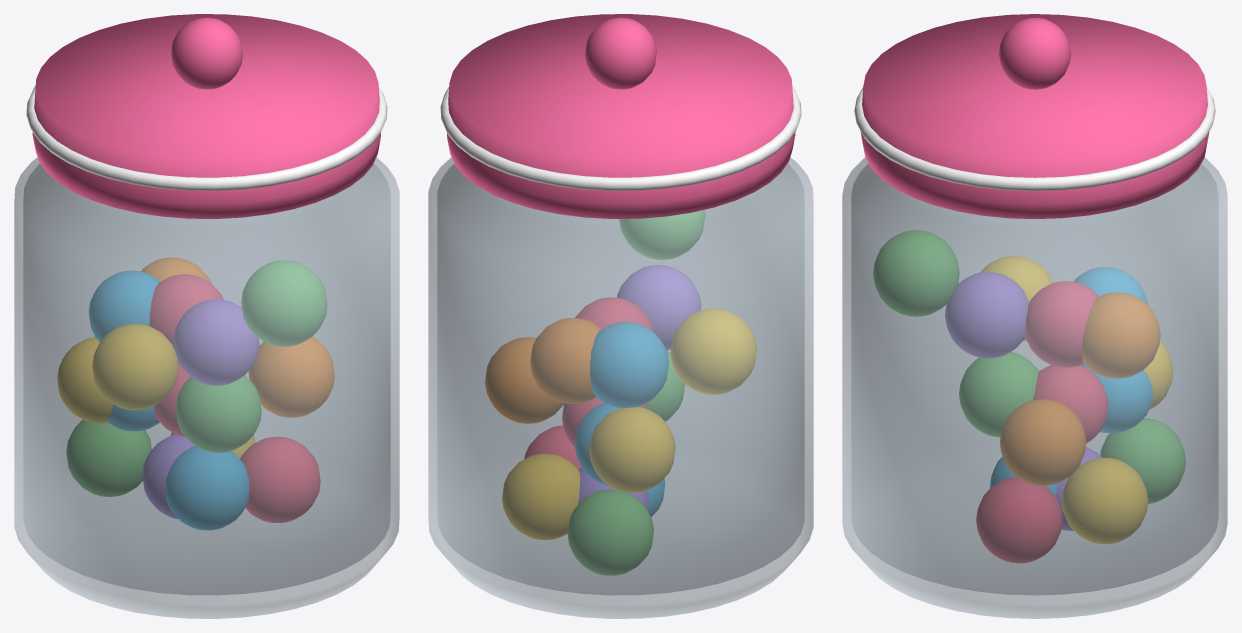
Rendered from d-jar.glb.
3 views of the same model, side by side, from view 1: azimuth 30°, elevation 25°; view 2: azimuth 150°, elevation 25°; view 3: azimuth 270°, elevation 25° (orthographic).
Parts seen in each view (by area): view 1: d-jar; view 2: d-jar; view 3: d-jar.
Part boxes in pixels (bbox=[...]): d-jar: bbox=[14, 14, 399, 618]; d-jar: bbox=[428, 14, 813, 618]; d-jar: bbox=[842, 14, 1227, 618].
Size of the model in its own units: 0.0867 by 0.13 by 0.0867.
